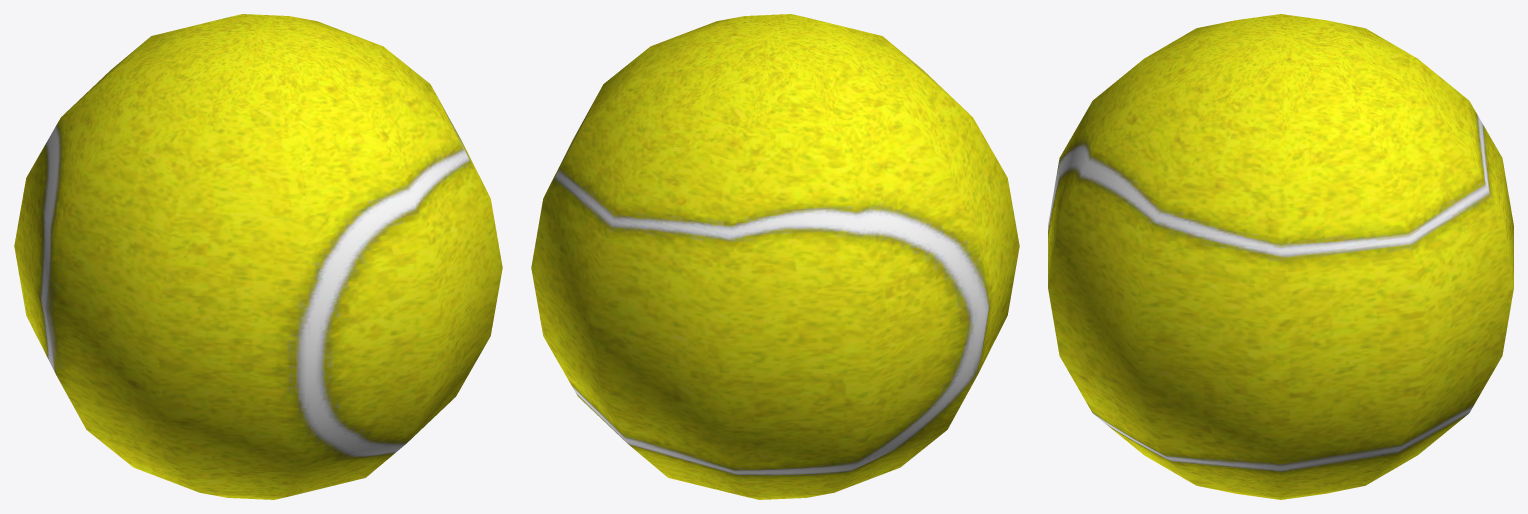
Rendered from Ball.obj.
3 renders of one model, left to right at view 1: azimuth 30°, elevation 25°; view 2: azimuth 150°, elevation 25°; view 3: azimuth 270°, elevation 25°, orthographic.
Visible parts, largest first — view 1: polygon0; view 2: polygon0; view 3: polygon0.
Boxes of the visible parts, <box> form: polygon0: <box>14,14,502,499</box>; polygon0: <box>531,14,1019,499</box>; polygon0: <box>1048,14,1513,499</box>.
Size of the model in its own units: 0.9215 by 0.9215 by 0.8763.
Materials: 1 (1 with a texture image).
